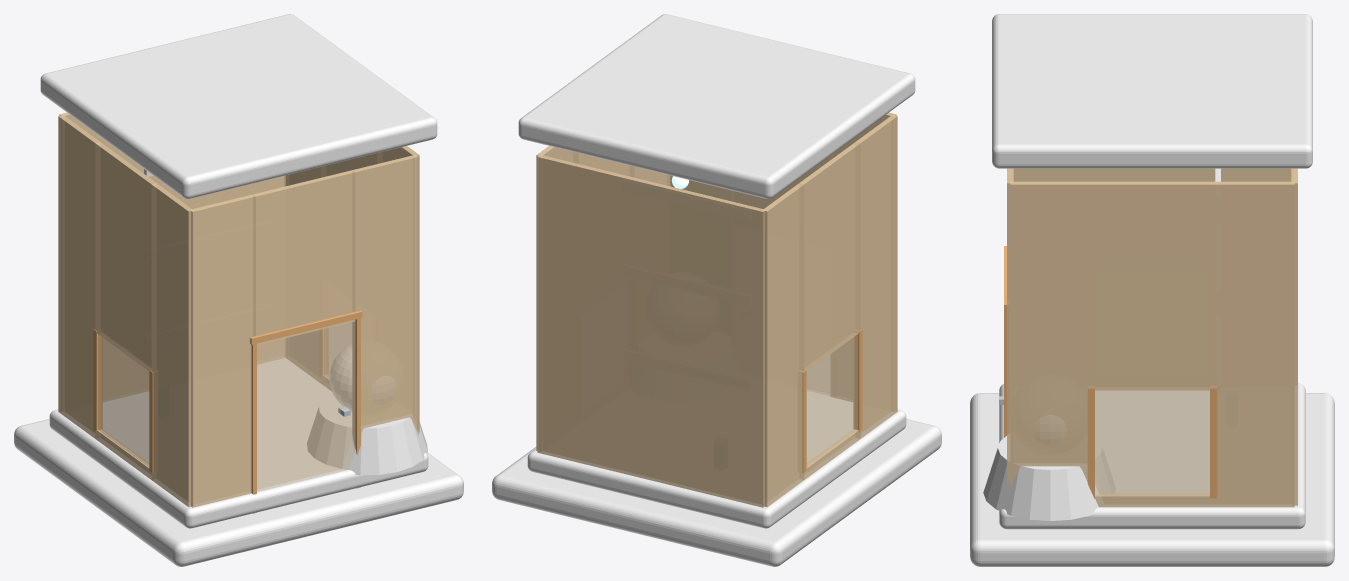
File: dorf_pavilion.glb
The picture shows the model from 3 angles, left to right: view 1: azimuth 30°, elevation 25°; view 2: azimuth 150°, elevation 25°; view 3: azimuth 270°, elevation 25°; orthographic projection. The views are drawn at different scales.
Parts seen in each view (by area): view 1: Original_solid_2, Shell_Front_Side_-1, Original_solid, Original_neutral, Shell_Front_Side_1, Shell_Front_Header, Door_Main_Glass, Shell_Side_-1_End_1, Shell_Side_-1_End_-1, Shell_Side_-1_Header, Original_accent, Window_Right_Glass (+12 smaller); view 2: Shell_Back, Original_solid_2, Original_solid, Shell_Side_-1_End_-1, Original_neutral, Shell_Side_-1_End_1, Shell_Side_-1_Header, Window_Right_Glass, Shell_Front_Side_-1, Shell_Side_1_End_-1, WindowFrame_-1_1, WindowFrame_-1_-1 (+5 smaller); view 3: Original_solid_2, Shell_Side_1_End_-1, Shell_Side_1_Header, Shell_Side_1_End_1, Original_solid, Original_neutral, Window_Left_Glass, Original_accent, Shell_Side_-1_Header, Shell_Side_1_Sill, Shell_Back, Shell_Front_Side_1 (+6 smaller).
Boxes of the visible parts, x1,y1,x2,y2 form: Original_solid_2: (40, 14, 437, 198); Shell_Front_Side_-1: (190, 194, 255, 507); Original_solid: (14, 419, 463, 566); Original_neutral: (49, 358, 428, 528); Shell_Front_Side_1: (352, 155, 418, 449); Shell_Front_Header: (253, 170, 355, 344); Door_Main_Glass: (257, 321, 354, 491); Shell_Side_-1_End_1: (151, 183, 193, 507); Shell_Side_-1_End_-1: (58, 115, 100, 438); Shell_Side_-1_Header: (95, 142, 155, 371); Original_accent: (307, 394, 427, 475); Window_Right_Glass: (98, 334, 149, 466); Shell_Back: (537, 155, 765, 507); Original_solid_2: (518, 14, 915, 198); Original_solid: (492, 419, 941, 566); Shell_Side_-1_End_-1: (762, 183, 804, 507); Original_neutral: (527, 388, 906, 528); Shell_Side_-1_End_1: (855, 115, 897, 438); Shell_Side_-1_Header: (799, 142, 860, 371); Window_Right_Glass: (806, 334, 857, 466); Shell_Front_Side_-1: (830, 112, 896, 401); Shell_Side_1_End_-1: (536, 146, 578, 450); WindowFrame_-1_1: (853, 329, 862, 431); WindowFrame_-1_-1: (798, 370, 806, 472); Original_solid_2: (992, 14, 1312, 168); Shell_Side_1_End_-1: (1213, 181, 1294, 507); Shell_Side_1_Header: (1091, 181, 1213, 390); Shell_Side_1_End_1: (1010, 181, 1091, 487); Original_solid: (970, 393, 1334, 566); Original_neutral: (999, 383, 1305, 529); Window_Left_Glass: (1095, 390, 1209, 495); Original_accent: (983, 434, 1115, 520); Shell_Side_-1_Header: (1091, 168, 1213, 181); Shell_Side_1_Sill: (1095, 494, 1213, 507); Shell_Back: (1291, 168, 1297, 505); Shell_Front_Side_1: (1007, 168, 1013, 486).
Size of the model in its own units: 2.5 by 3.13 by 2.5.
